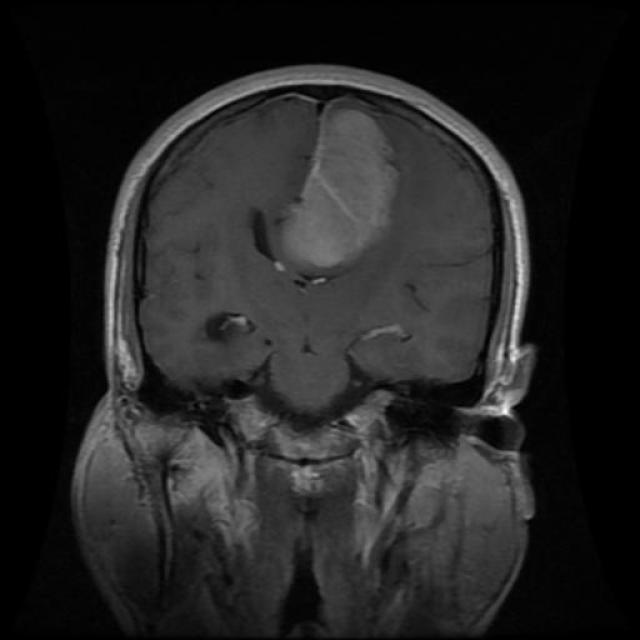meningioma: (282, 109, 400, 269)
